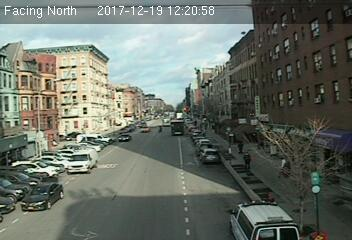car: (22, 181, 64, 209), (200, 147, 220, 163), (118, 133, 130, 143)
police: (232, 200, 301, 240)
truck: (66, 150, 100, 173)
ups: (170, 119, 184, 137)
